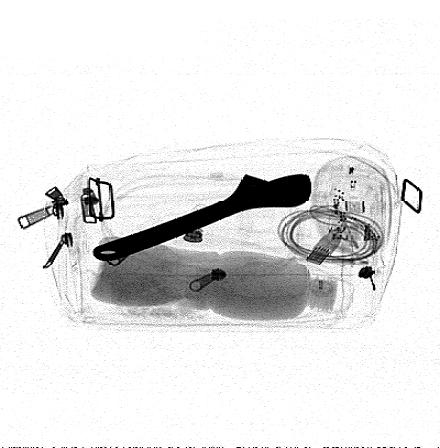Wrench: (91, 171, 314, 264)
